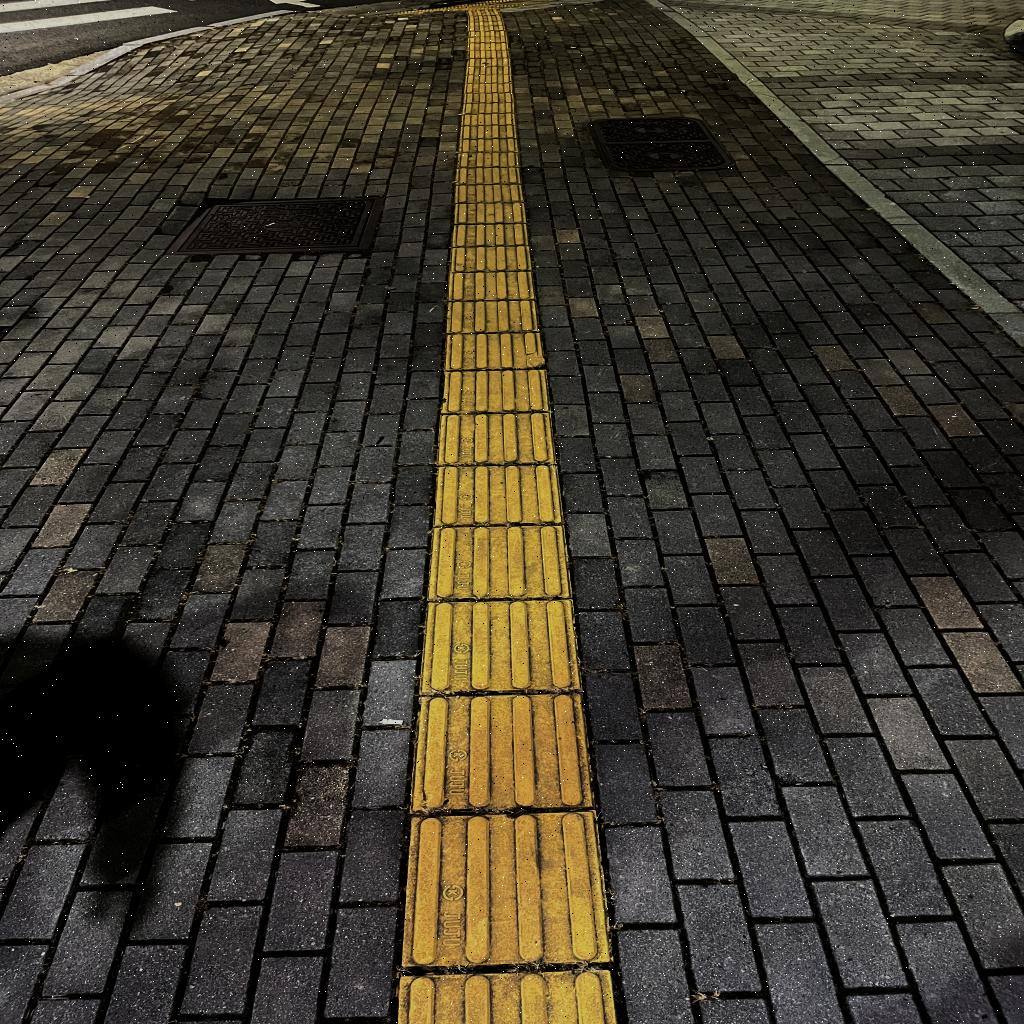Straight block broken: (444, 332, 545, 370)
Straight block normal: (397, 811, 611, 967), (409, 693, 592, 811), (418, 598, 580, 694), (428, 526, 570, 598), (433, 464, 562, 525), (437, 412, 554, 465), (441, 370, 549, 413)
